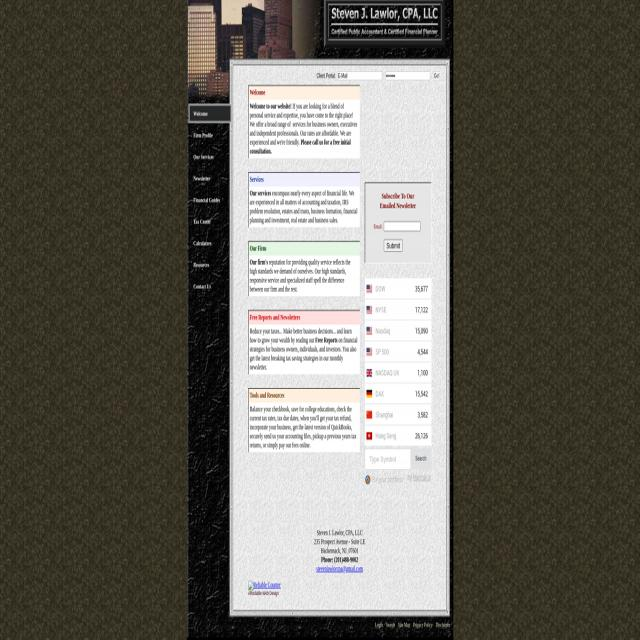button: (323, 0, 445, 48), (187, 66, 233, 102), (248, 580, 280, 590)
field: (384, 222, 420, 232), (338, 72, 382, 80), (386, 72, 430, 80), (384, 239, 402, 252), (434, 72, 439, 80)
